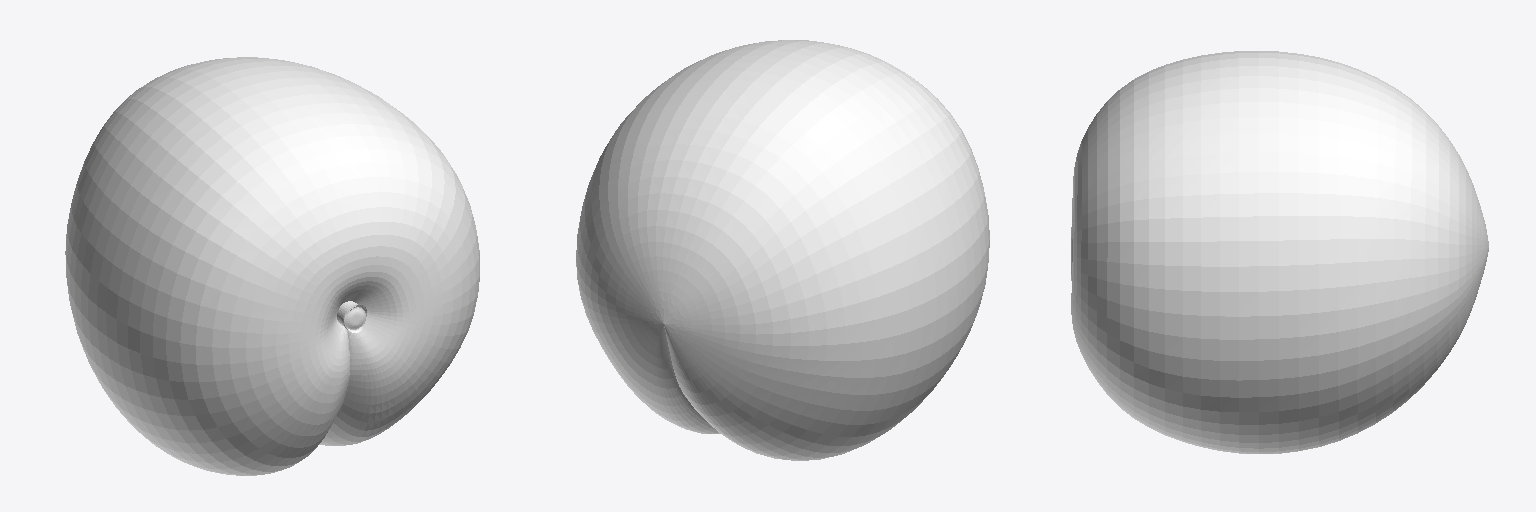
File: peach.obj
The picture shows the model from 3 angles: view 1: azimuth 30°, elevation 25°; view 2: azimuth 150°, elevation 25°; view 3: azimuth 270°, elevation 25°; orthographic projection.
Visible parts, largest first — view 1: 12203_Fruit_v1_L3; view 2: 12203_Fruit_v1_L3; view 3: 12203_Fruit_v1_L3.
Part boxes in pixels (x1,y1,x2,y2): 12203_Fruit_v1_L3: (65, 57, 479, 475); 12203_Fruit_v1_L3: (576, 40, 989, 460); 12203_Fruit_v1_L3: (1071, 51, 1488, 453).
Bounding box in the file's own units: 0.3644 × 0.3743 × 0.3888.